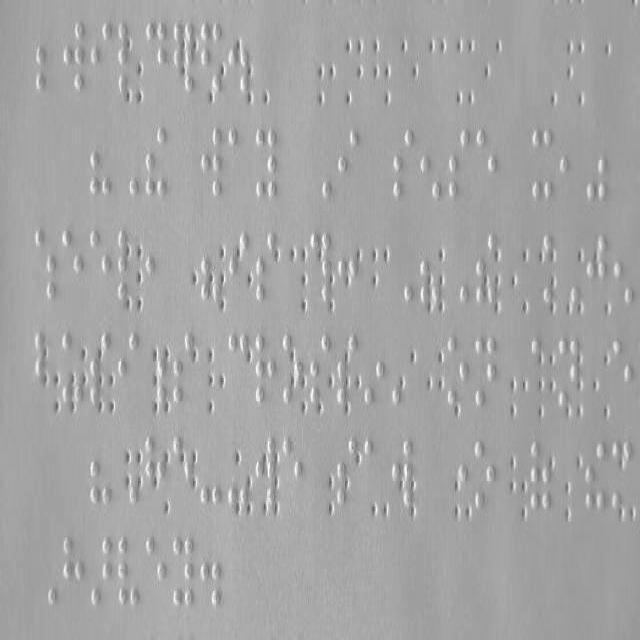braiile: (60, 226, 84, 304), (530, 128, 554, 202), (88, 228, 112, 302), (117, 536, 141, 610), (62, 534, 84, 612), (253, 129, 277, 200), (254, 228, 276, 304), (172, 333, 194, 409), (474, 438, 496, 514), (144, 536, 166, 612), (62, 21, 84, 95), (89, 21, 111, 95), (144, 21, 166, 95), (200, 125, 222, 199), (172, 536, 194, 610), (337, 129, 359, 200), (254, 334, 276, 404), (446, 336, 468, 406), (474, 336, 496, 406), (118, 331, 138, 407), (558, 336, 578, 412), (228, 125, 248, 199), (392, 128, 412, 202), (448, 128, 468, 202), (476, 128, 496, 202), (228, 332, 248, 406), (310, 334, 330, 404), (612, 336, 632, 406), (282, 434, 302, 504), (364, 436, 384, 502)
